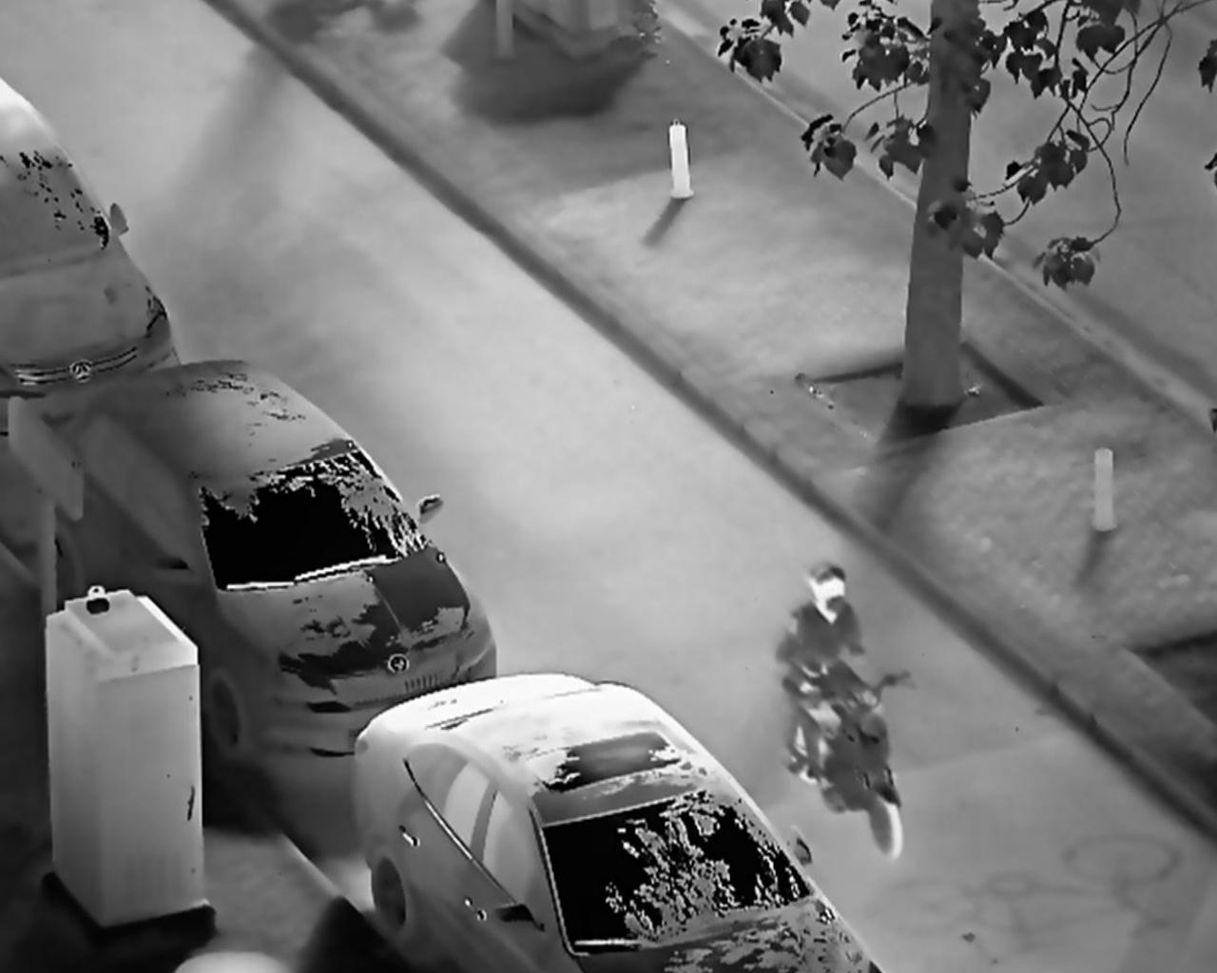person: (776, 558, 873, 788)
